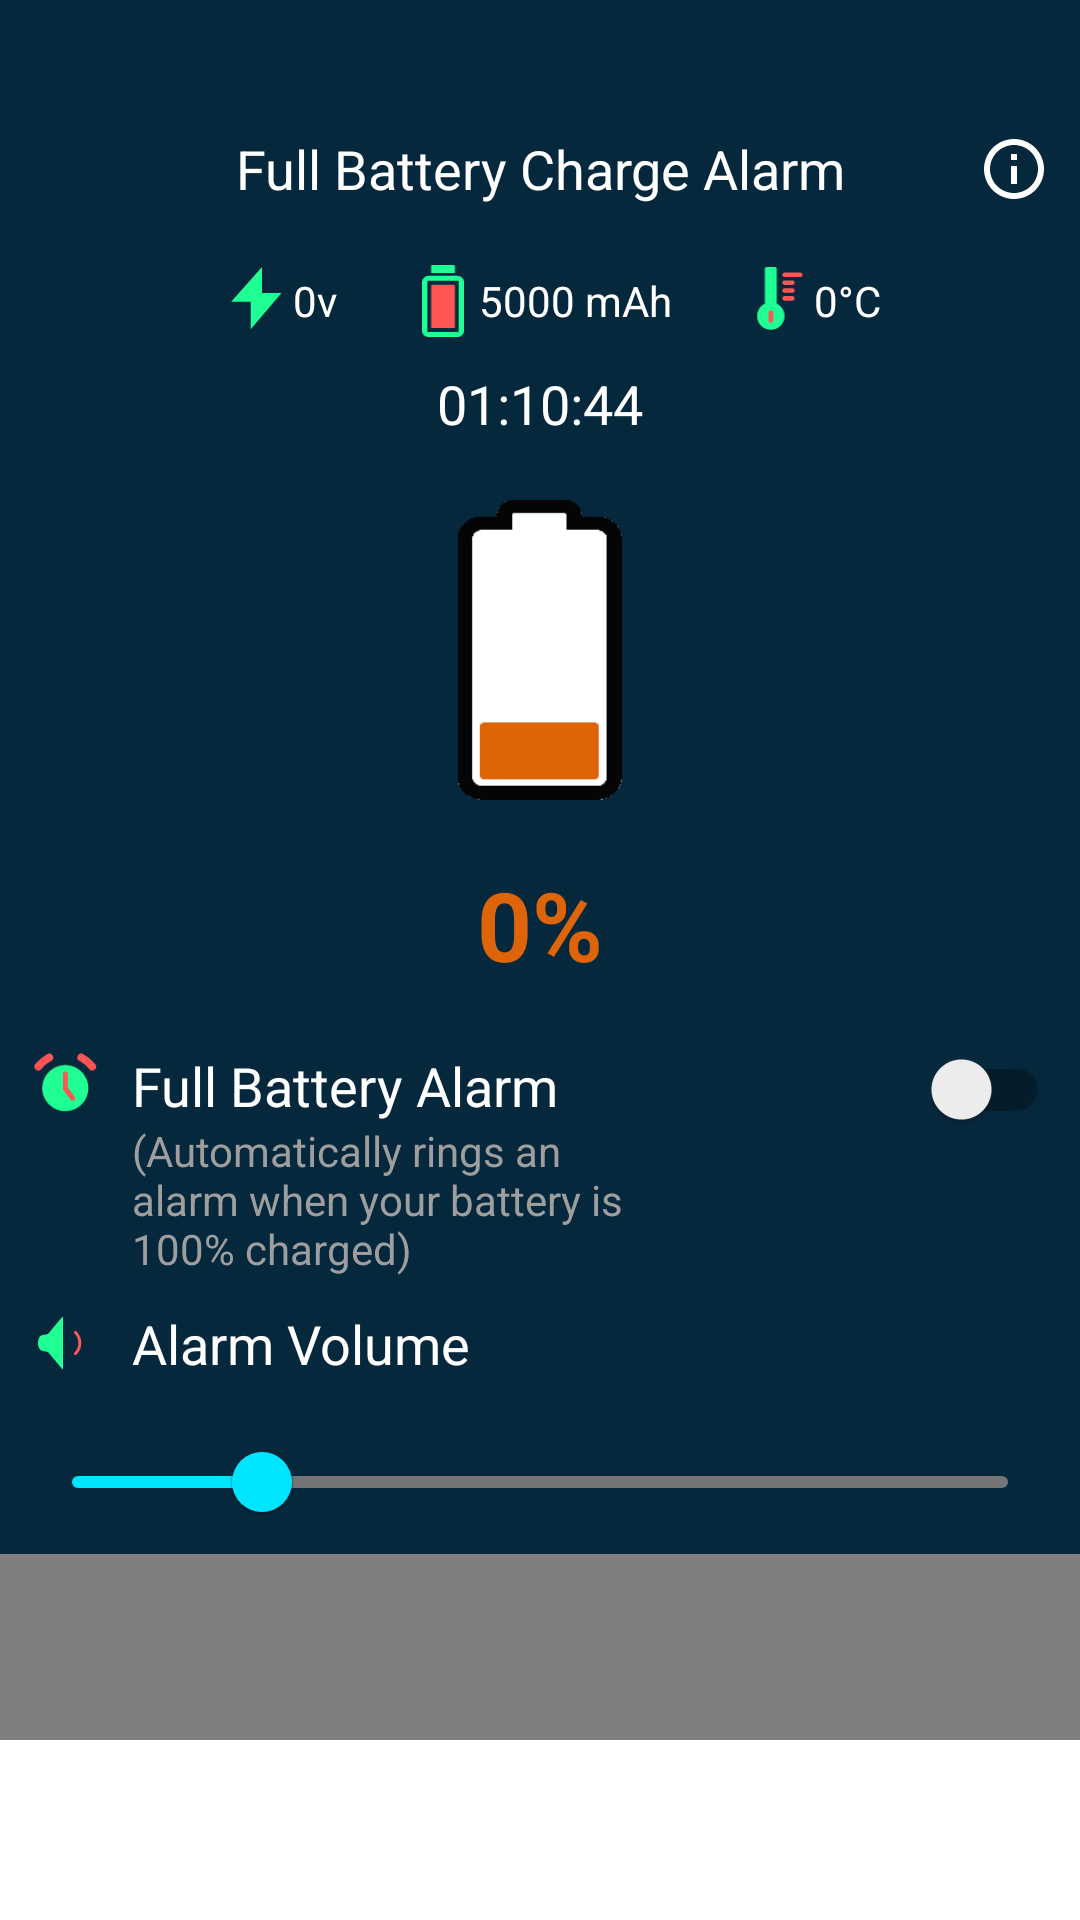

Screen size 1080x1920. Icon name, then its center in pixels as (x=x, y=y):
flash: (x=256, y=298)
info: (x=1014, y=169)
level: (x=540, y=650)
sound: (x=60, y=1343)
temperature: (x=780, y=298)
